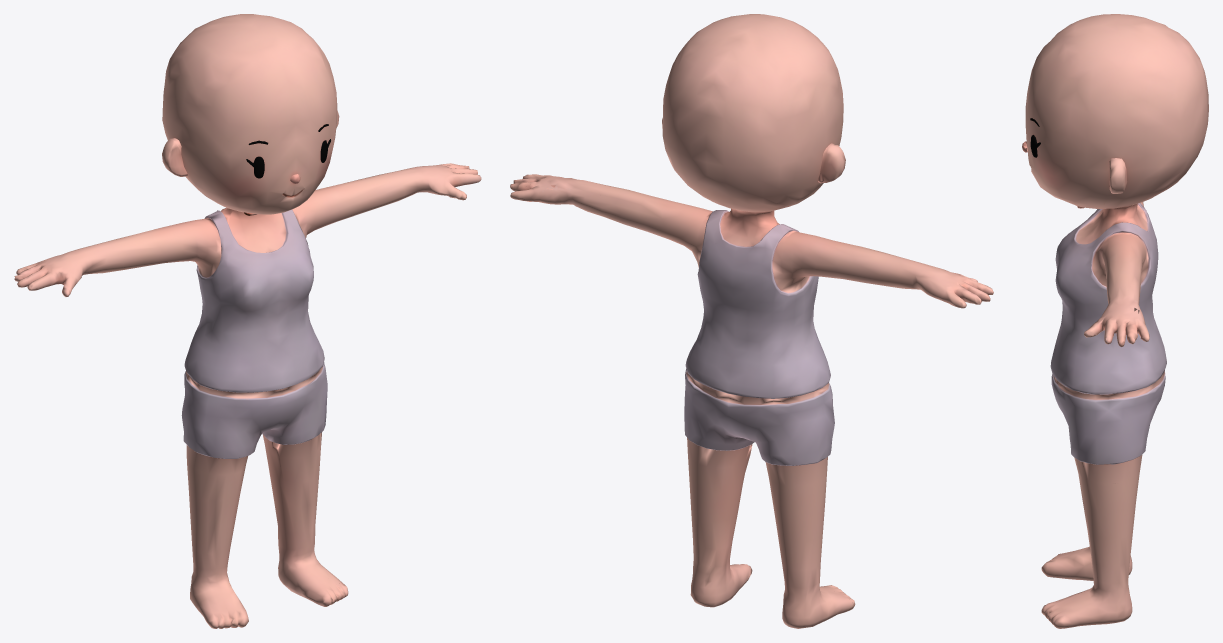
Rendered from body_female.fbx.
3 views of the same model, side by side, from view 1: azimuth 30°, elevation 25°; view 2: azimuth 150°, elevation 25°; view 3: azimuth 270°, elevation 25° (orthographic). The views are drawn at different scales.
Visible parts, largest first — view 1: geometry_0; view 2: geometry_0; view 3: geometry_0.
Part boxes in pixels (bbox=[...]): geometry_0: bbox=[14, 14, 481, 628]; geometry_0: bbox=[510, 14, 993, 628]; geometry_0: bbox=[1022, 14, 1208, 628].
Bounding box in the file's own units: 80.32 × 94.97 × 28.03.
1 material, 1 textured.
